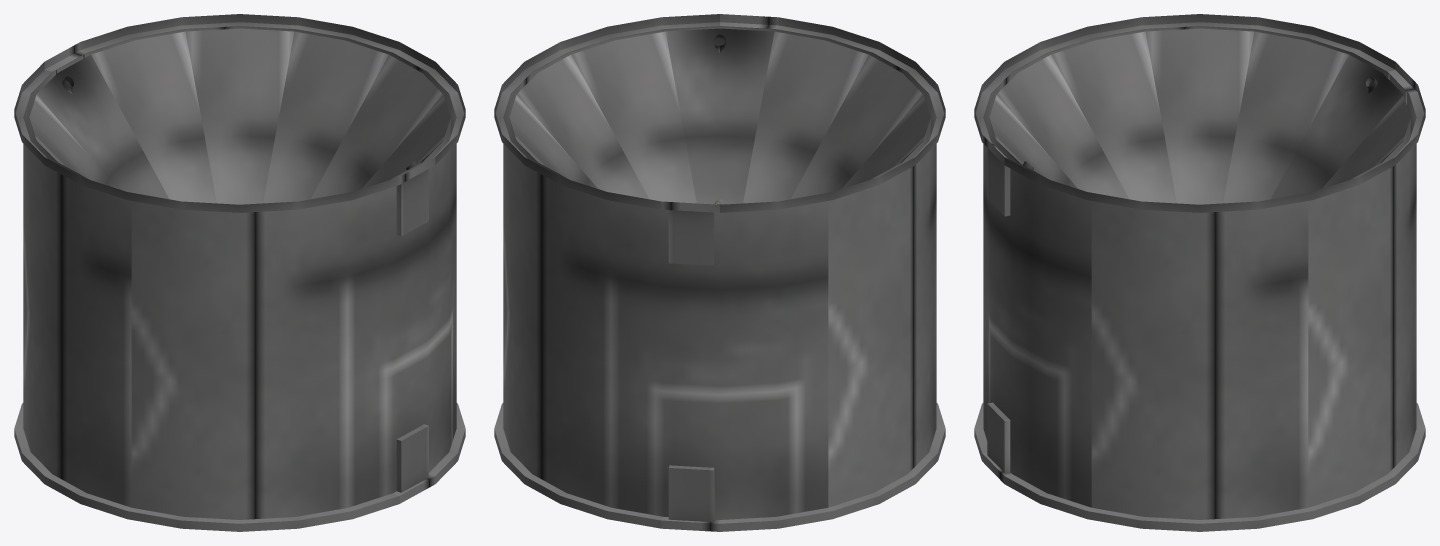
Rendered from mount.obj.
3 renders of one model, left to right at view 1: azimuth 30°, elevation 25°; view 2: azimuth 150°, elevation 25°; view 3: azimuth 270°, elevation 25°, orthographic.
Visible parts, largest first — view 1: 1; view 2: 1; view 3: 1.
Part boxes in pixels (<box>): 1: <box>14,14,465,531</box>; 1: <box>494,14,945,531</box>; 1: <box>974,14,1425,531</box>.
Size of the model in its own units: 3.75 by 3 by 3.75.
